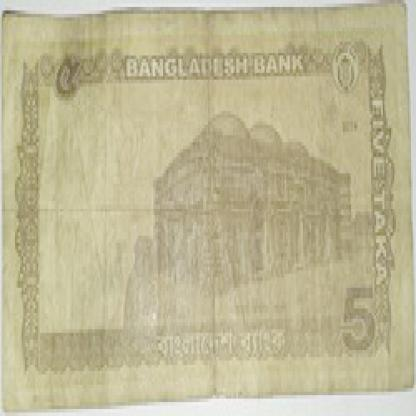Five Taka: (336, 271, 380, 368), (45, 42, 85, 114)
